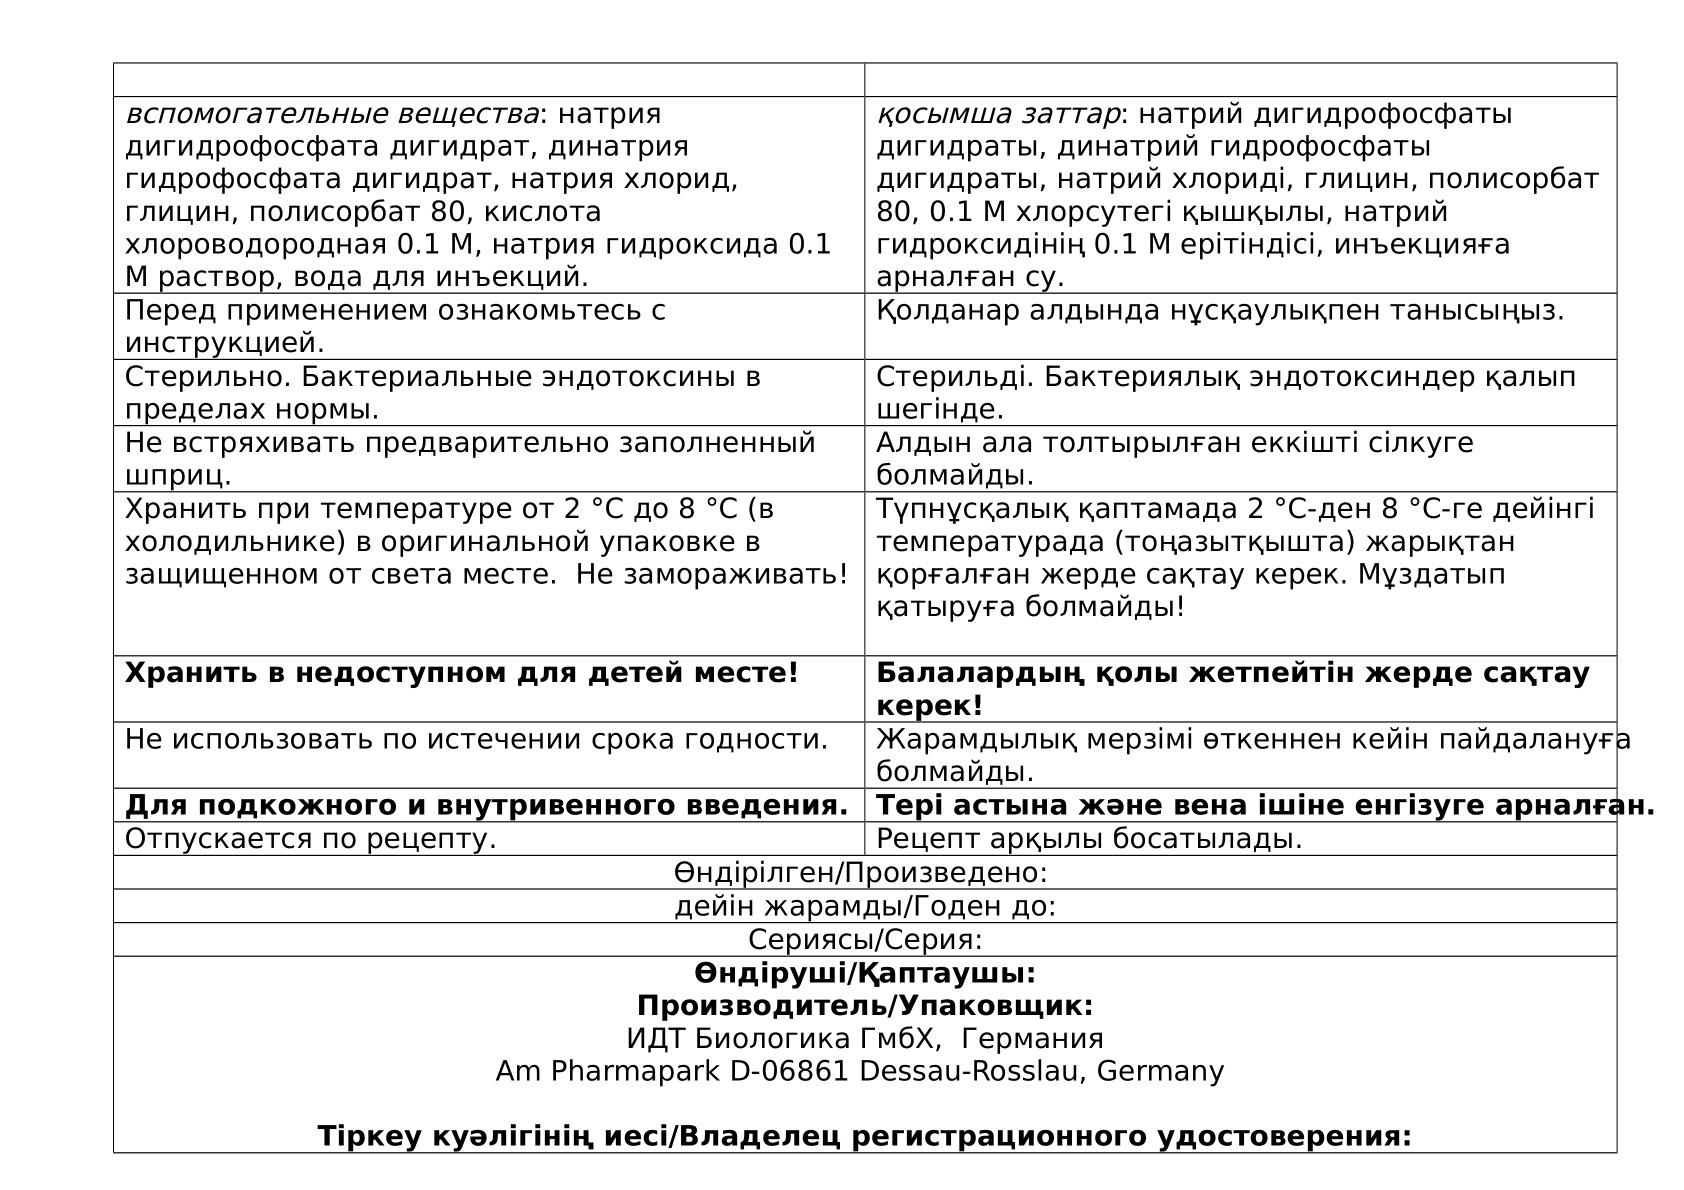merged_cells: (113, 62, 1660, 1172)
